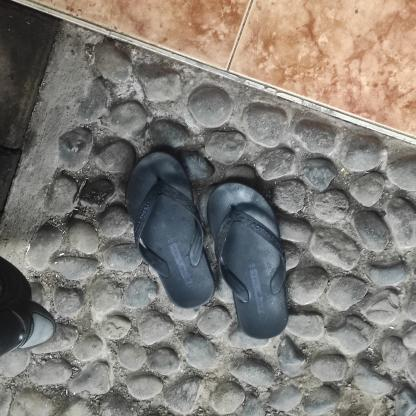Black Swallow A: (127, 152, 216, 309), (206, 178, 290, 342)
